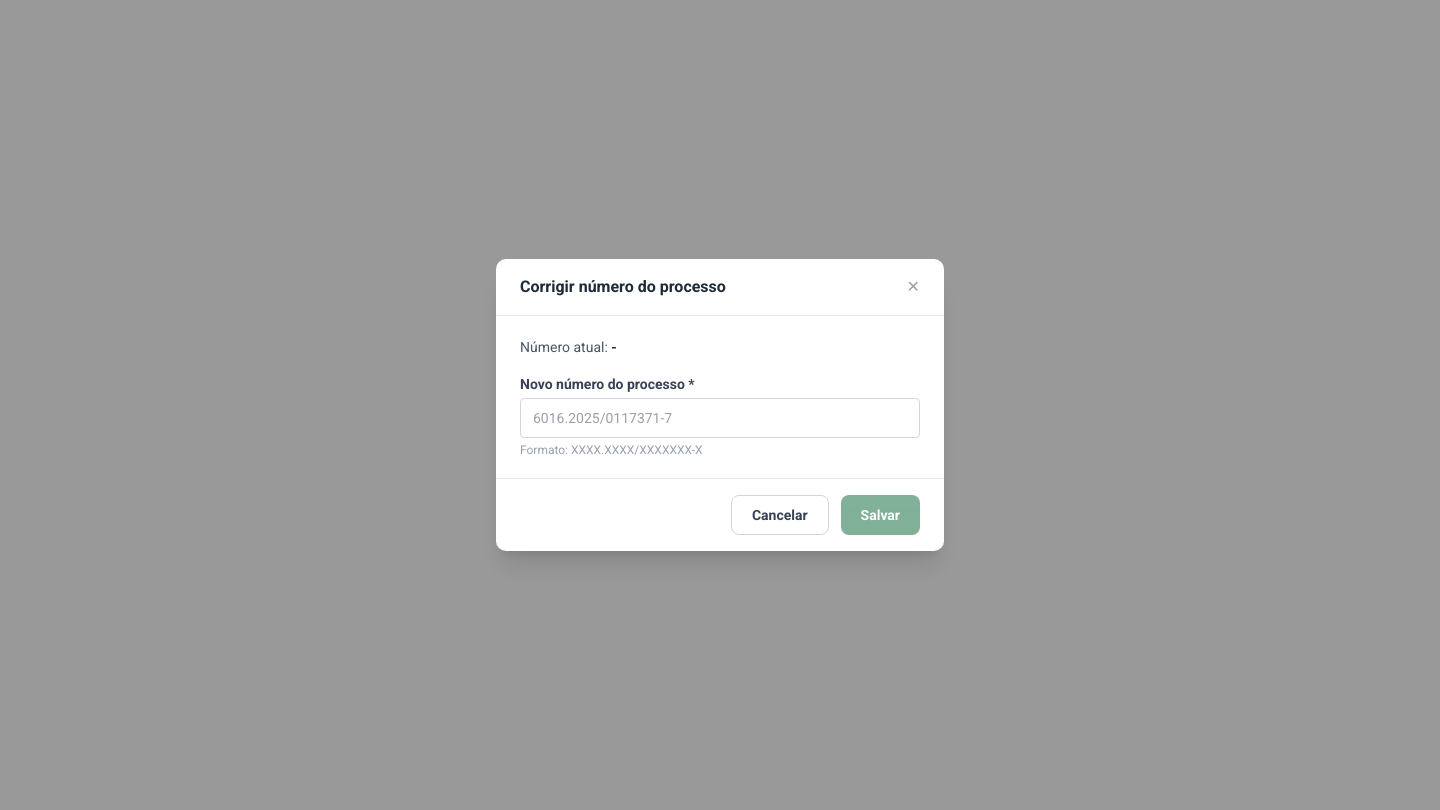
CorrigirProcessoModal › desabilita Salvar quando vazio ou inválido e habilita quando válido
The image size is (1440, 810).
Expected: the button "Salvar" is disabled, [841, 495, 920, 535]
Type "123" into the field labelled "Novo número do processo" at (720, 418), box [520, 398, 920, 438]
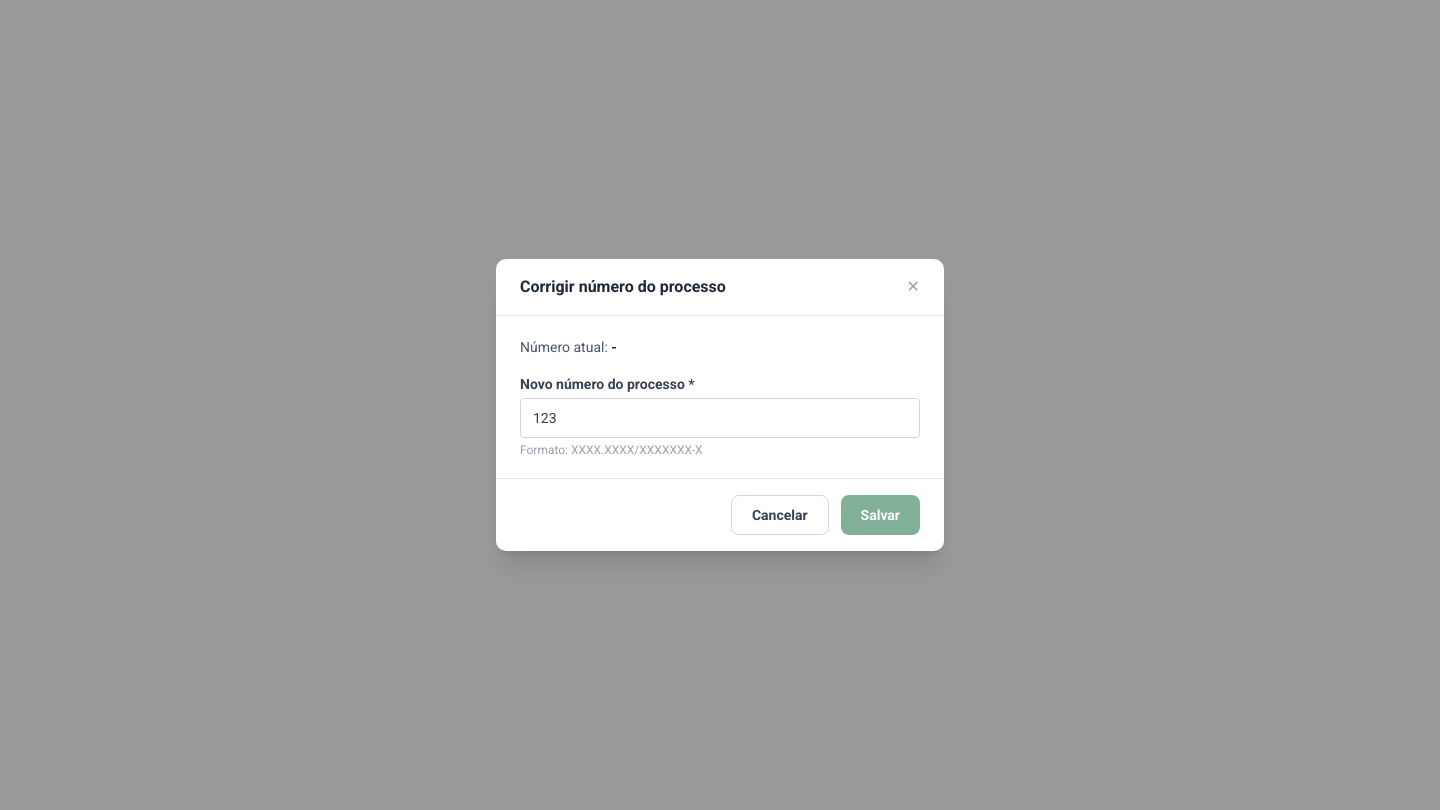
Expected: the button "Salvar" is disabled, [841, 495, 920, 535]
Replace the text in the field labelled "Novo número do processo" with "6016.2025/0117371-7" at (720, 418), box [520, 398, 920, 438]
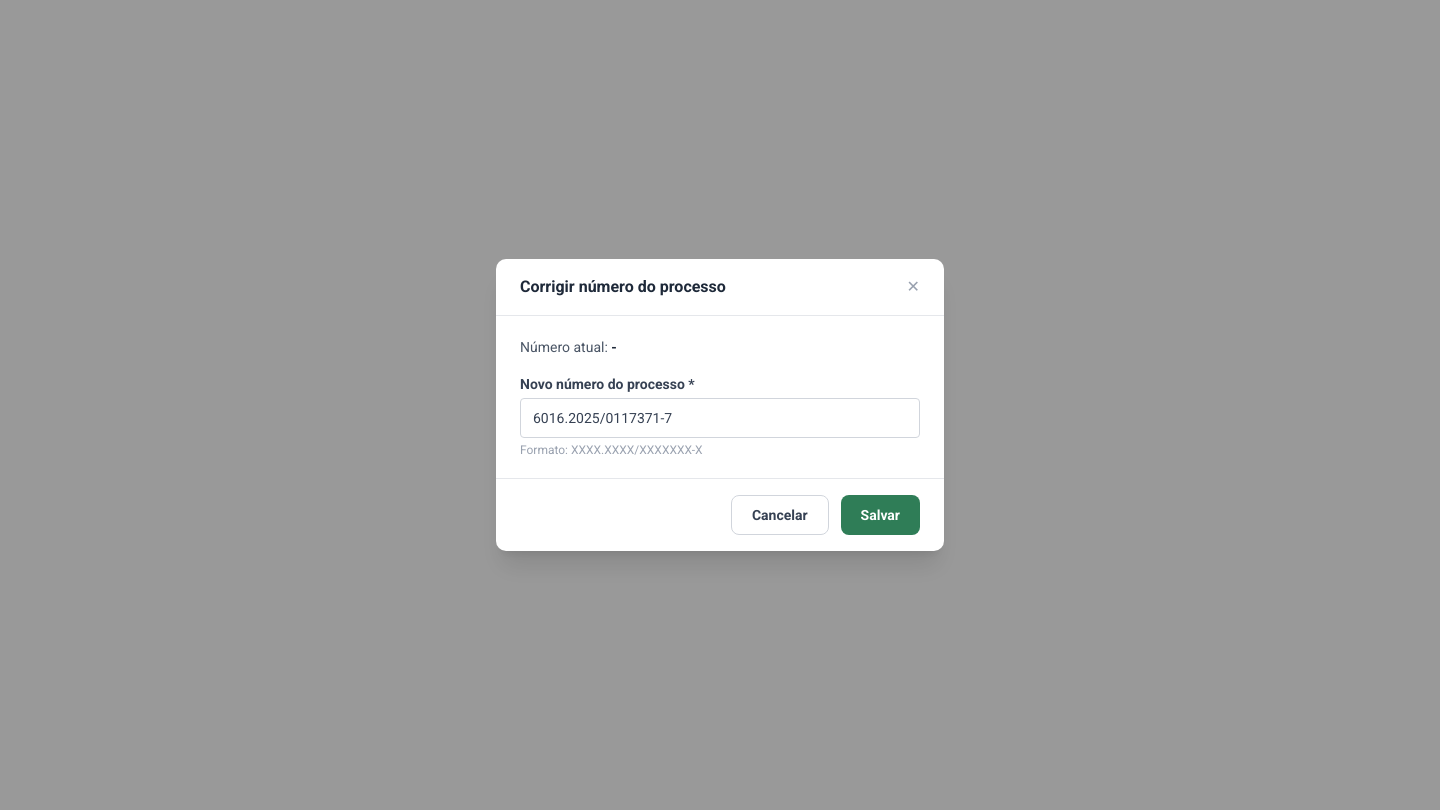
Result: the button "Salvar" is enabled at [841, 495, 920, 535]
